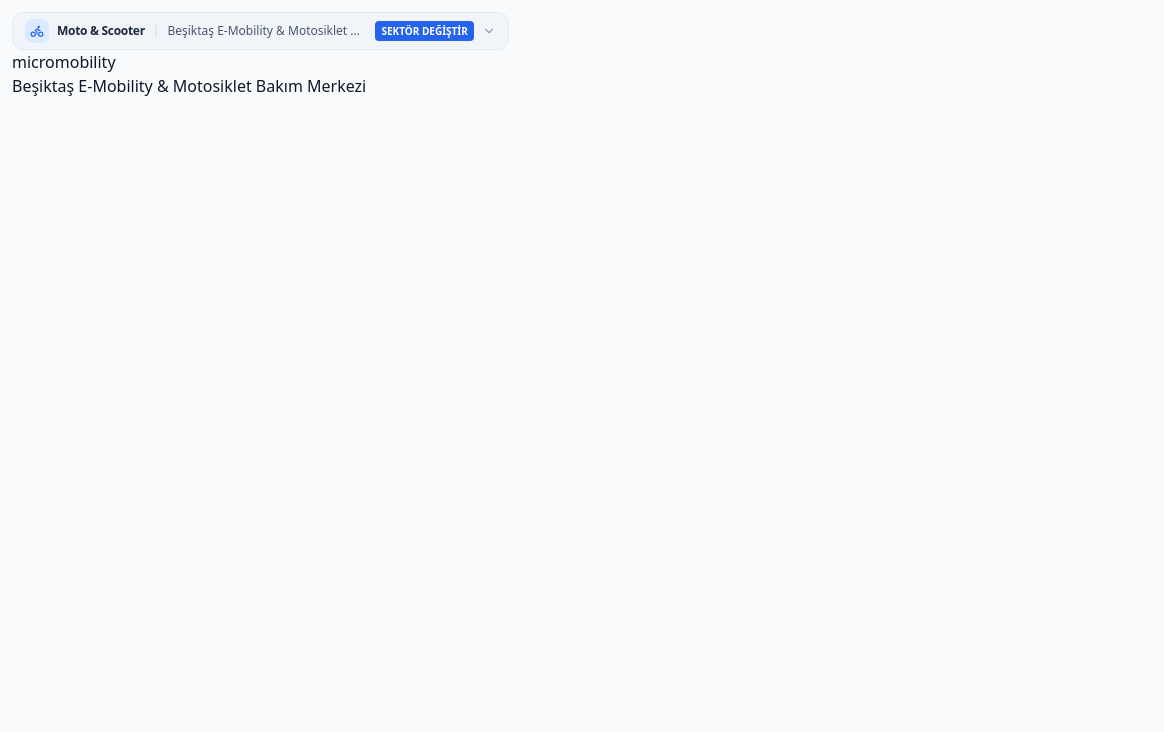
HiSectorSwitcher & Çok Sektörlü Dinamik Şablon Mimarisi › renders HiSectorSwitcher and switches sector dynamically
Expected: the text with test id "current-sector" reads "micromobility", [12,51,116,73]
Expected: the text "Moto & Scooter" is shown, [57,23,145,39]
Note: Click dropdown toggle
Click the text "SEKTÖR DEĞİŞTİR". click: (425, 31)
box: [375,21,474,41]
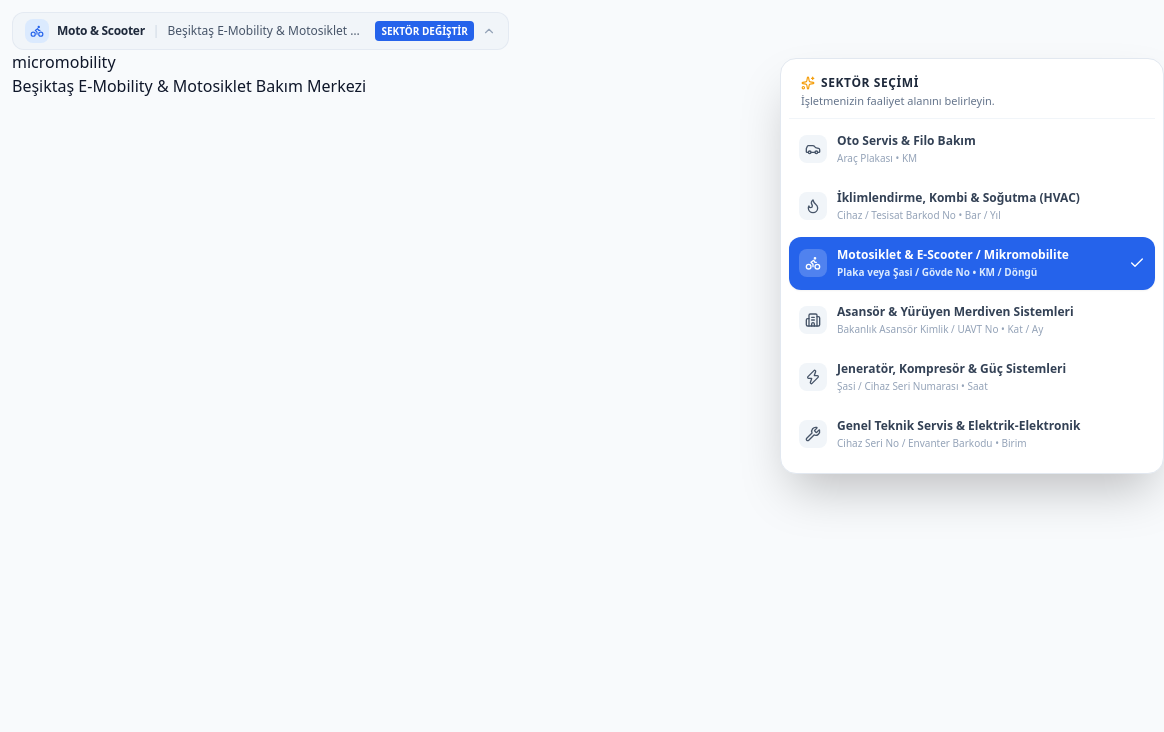
Expected: the text "İklimlendirme, Kombi & Soğutma (HVAC)" is shown
Expected: the text "Asansör & Yürüyen Merdiven Sistemleri" is shown, [837,304,1074,318]
Expected: the text "Jeneratör, Kompresör & Güç Sistemleri" is shown, [837,360,1066,376]
Note: Click on HVAC
Click the text "İklimlendirme, Kombi & Soğutma (HVAC)". click: (958, 197)
box: [837,190,1080,204]
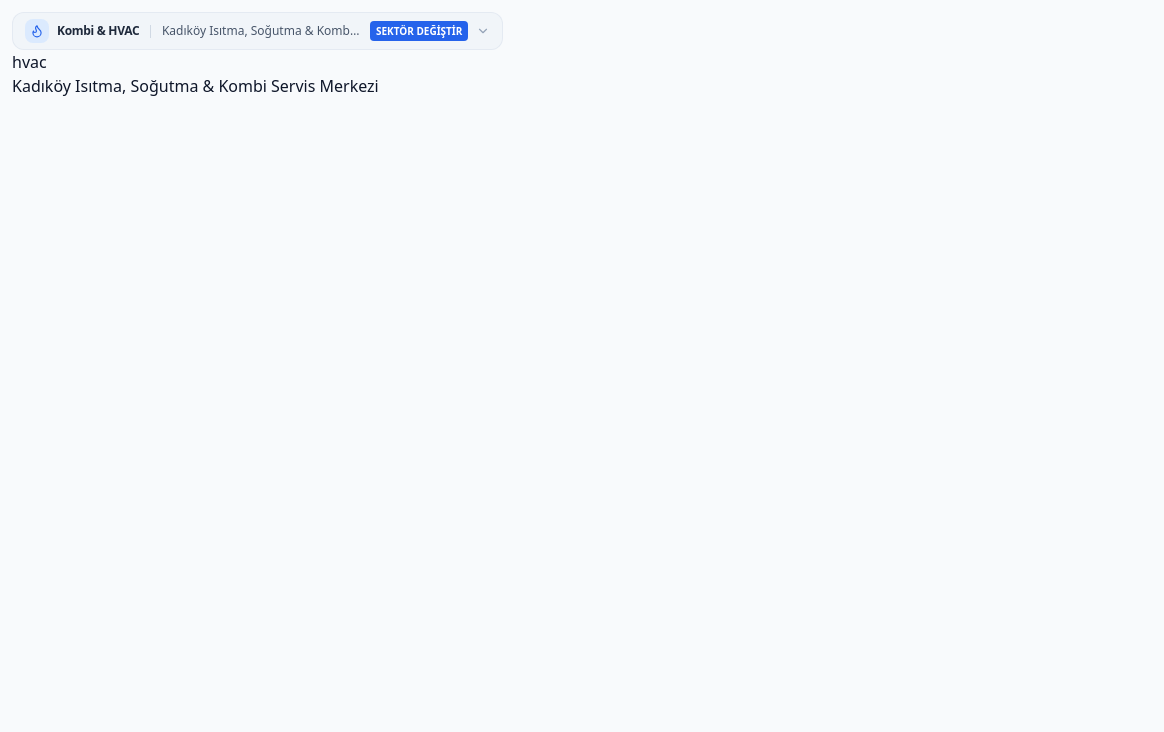
Expected: the text with test id "current-sector" reads "hvac", [12,51,47,73]
Expected: the text with test id "current-branch" shows "Kadıköy Isıtma", [12,75,379,97]
